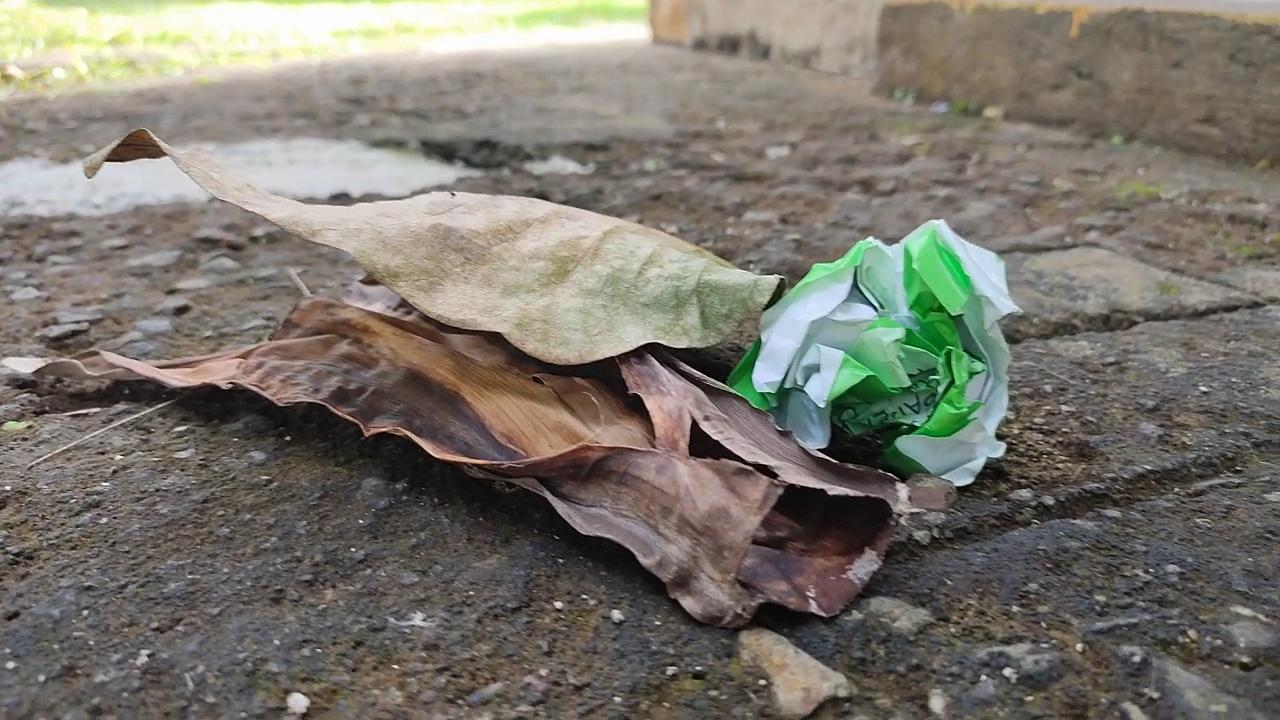Paper: (743, 193, 1031, 502)
